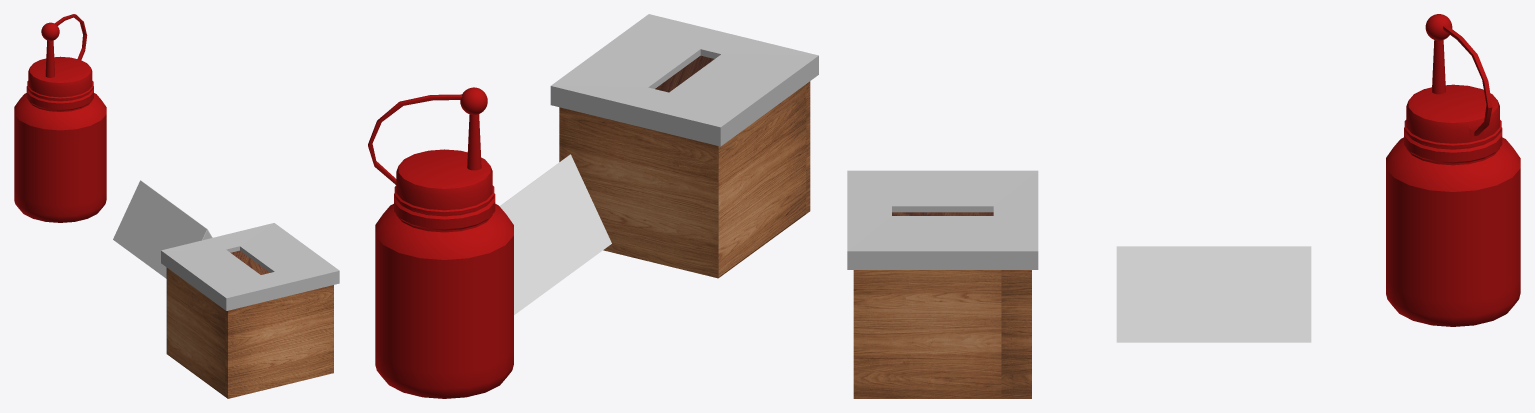
3 views of the same model, side by side, from view 1: azimuth 30°, elevation 25°; view 2: azimuth 150°, elevation 25°; view 3: azimuth 270°, elevation 25° (orthographic). The views are drawn at different scales.
Visible parts, largest first — view 1: Box001, K-초장통, Object001, 예약석; view 2: K-초장통, Box001, Object001, 예약석; view 3: K-초장통, Box001, 예약석, Object001.
Part boxes in pixels (left/top/right/bottom): Box001: left=166, top=250, right=333, bottom=398; K-초장통: left=14, top=14, right=106, bottom=222; Object001: left=161, top=223, right=339, bottom=310; 예약석: left=113, top=180, right=212, bottom=278; K-초장통: left=368, top=87, right=513, bottom=398; Box001: left=559, top=55, right=810, bottom=278; Object001: left=550, top=14, right=818, bottom=146; 예약석: left=499, top=154, right=611, bottom=314; K-초장통: left=1386, top=14, right=1520, bottom=326; Box001: left=853, top=212, right=1031, bottom=398; 예약석: left=1116, top=246, right=1311, bottom=342; Object001: left=847, top=170, right=1038, bottom=269.
Bounding box in the file's own units: 4.45 × 8.36 × 15.71.
